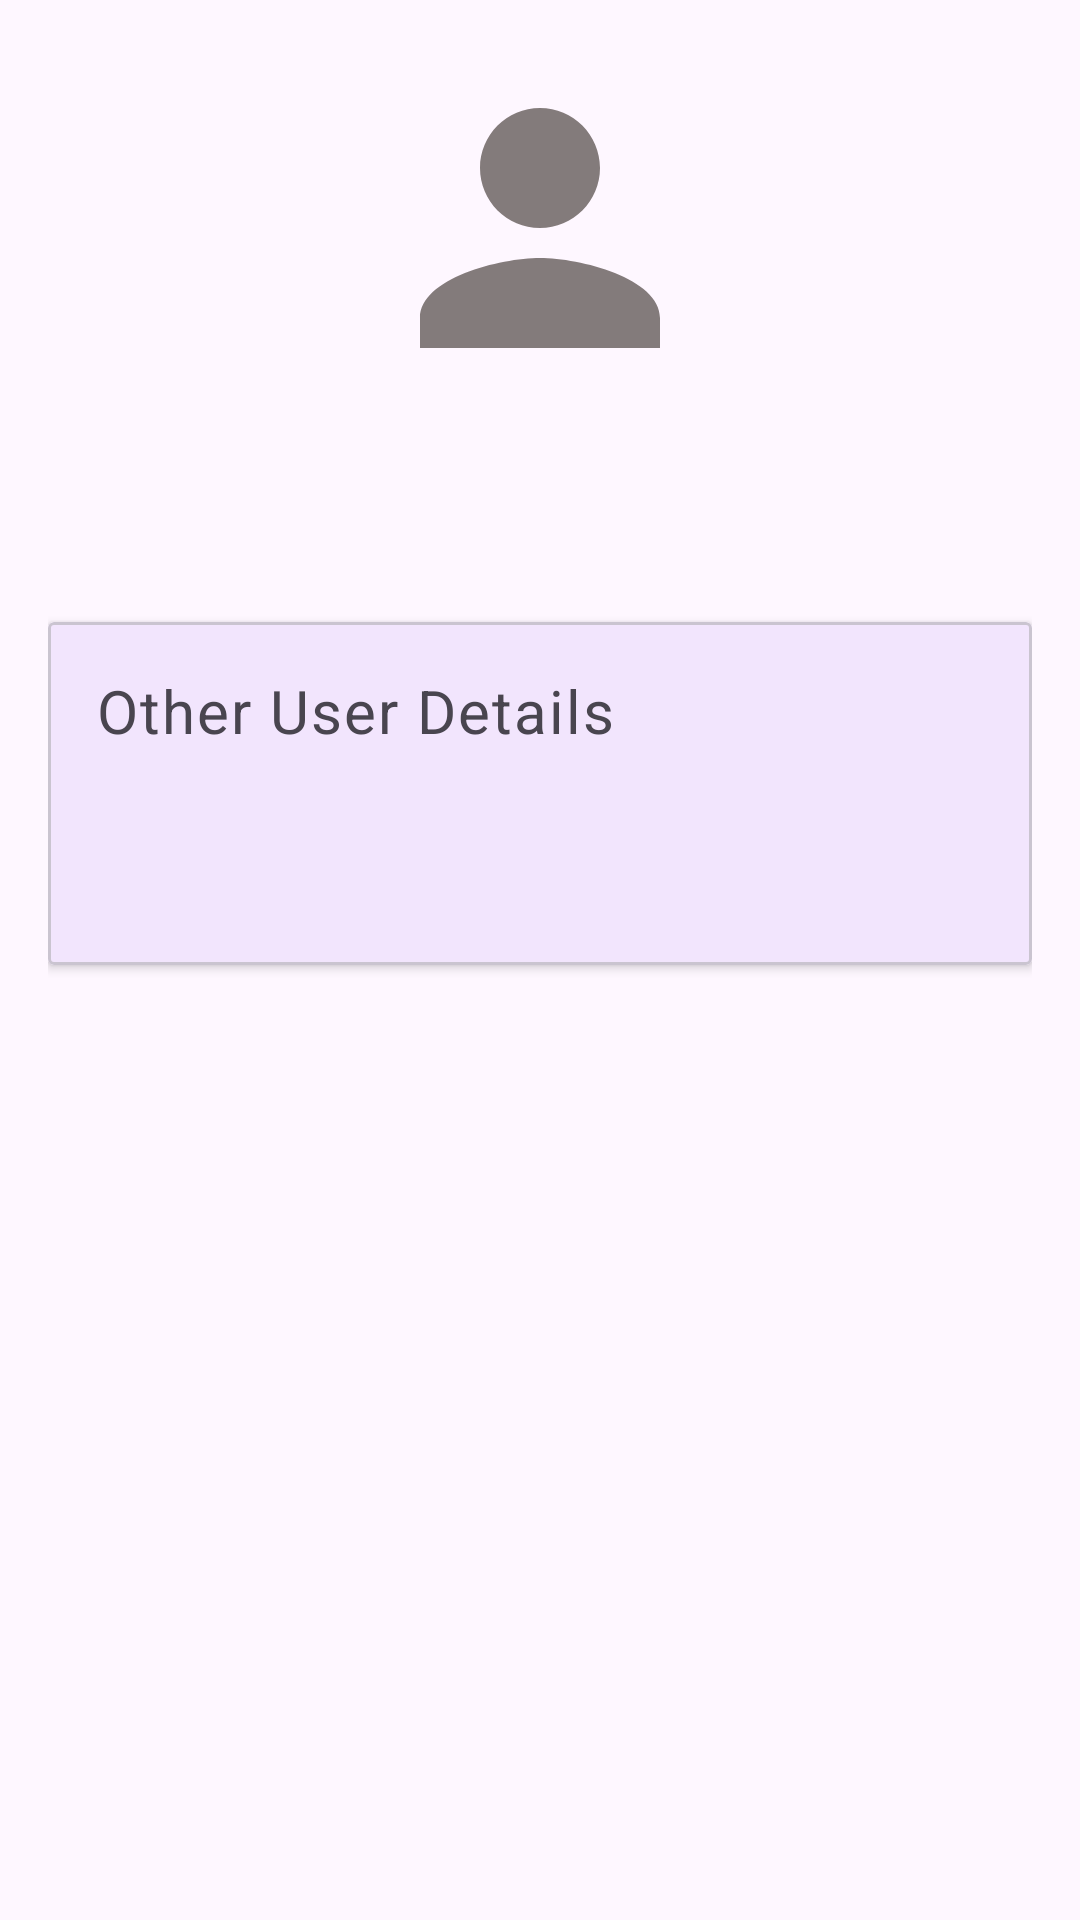

Named icons in this screenshot (1080 × 1920) and their centers, (x=x, y=y):
User Profile: (x=540, y=228)
